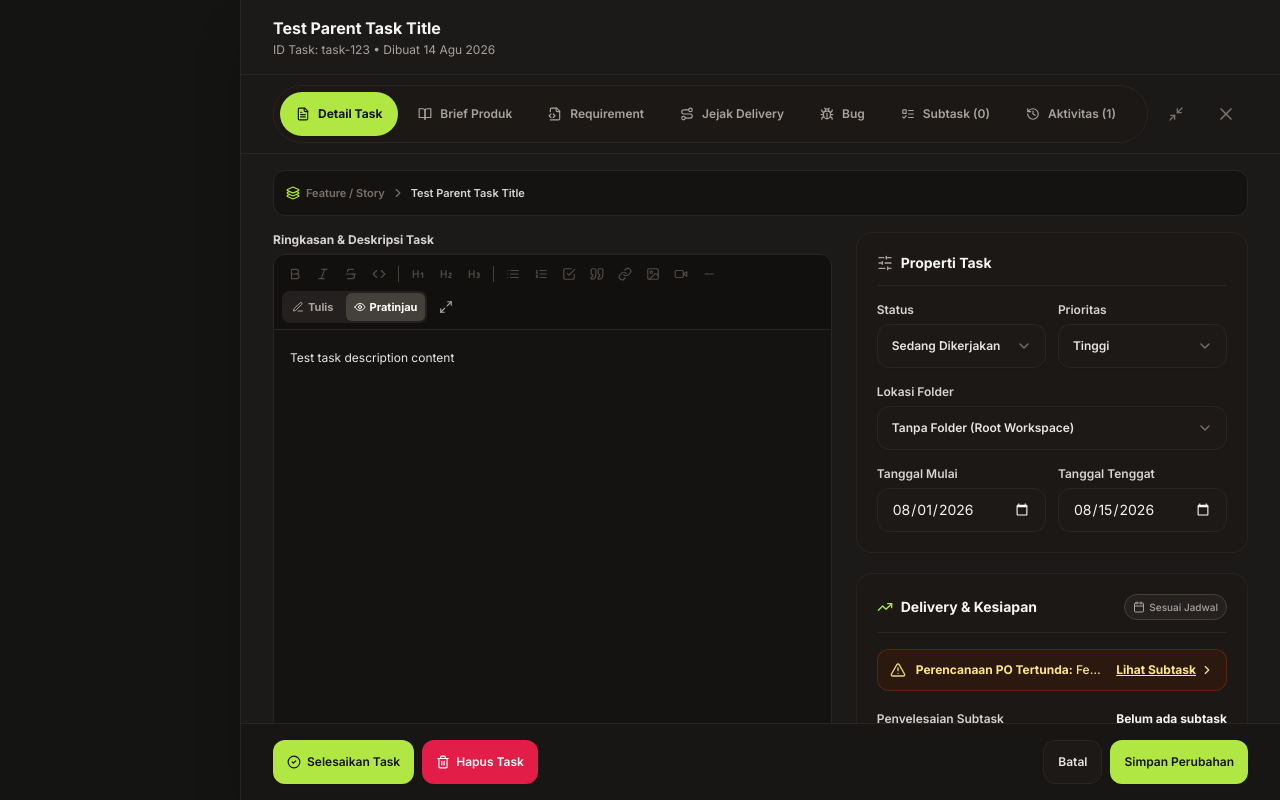
TaskDetailDrawer UI Component › opens contextual linked Bug inside the existing Task Hub drawer
The width and height of the screenshot is (1280, 800).
Expected: the heading "Test Parent Task Title" is shown, [273,18,441,38]
Click the tab "Bug" at (842, 114), box [804,92,881,136]
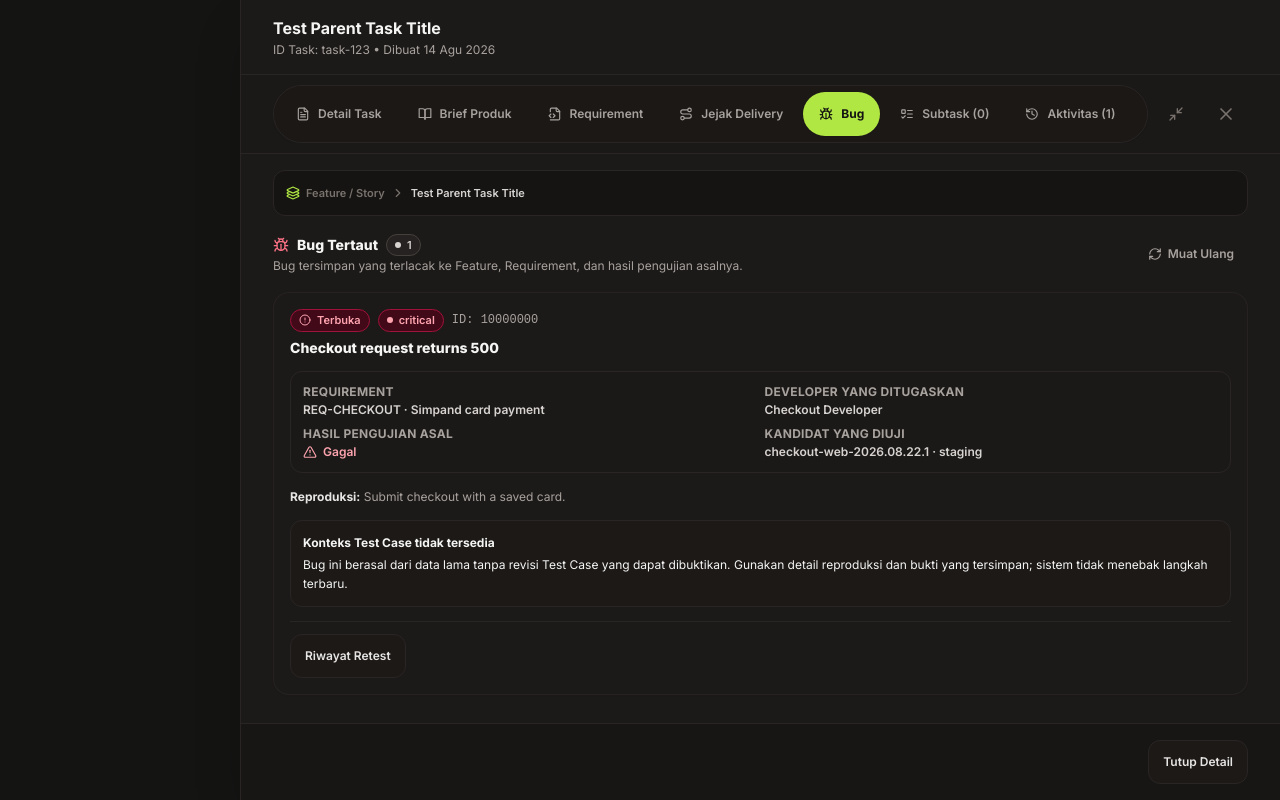
Expected: the heading "Checkout request returns 500" is shown, [290,338,499,356]
Expected: the text "Terbuka" is shown, [317,312,361,328]
Expected: the text "REQ-CHECKOUT · Simpand card payment" is shown, [303,402,545,417]
